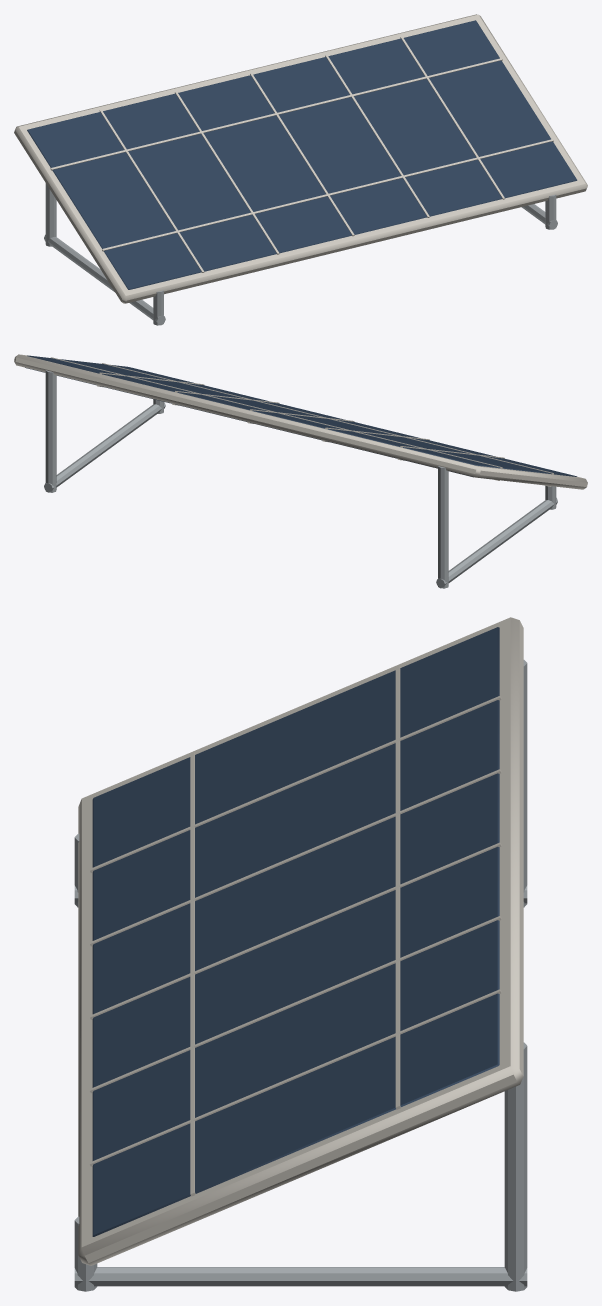
File: solar_panel.glb
3 renders of one model, top to bottom at view 1: azimuth 30°, elevation 25°; view 2: azimuth 150°, elevation 25°; view 3: azimuth 270°, elevation 25°, orthographic. The views are drawn at different scales.
Visible parts, largest first — view 1: solar, steel, galv; view 2: steel, solar, galv; view 3: solar, steel, galv.
Part boxes in pixels (bbox=[...]): solar: bbox=[27, 20, 577, 289]; steel: bbox=[14, 14, 587, 303]; galv: bbox=[44, 183, 557, 325]; steel: bbox=[14, 354, 587, 489]; solar: bbox=[25, 355, 576, 477]; galv: bbox=[44, 370, 557, 588]; solar: bbox=[92, 627, 499, 1236]; steel: bbox=[78, 617, 523, 1265]; galv: bbox=[74, 660, 527, 1291].
Size of the model in its own units: 1.9 by 0.4948 by 0.8.
